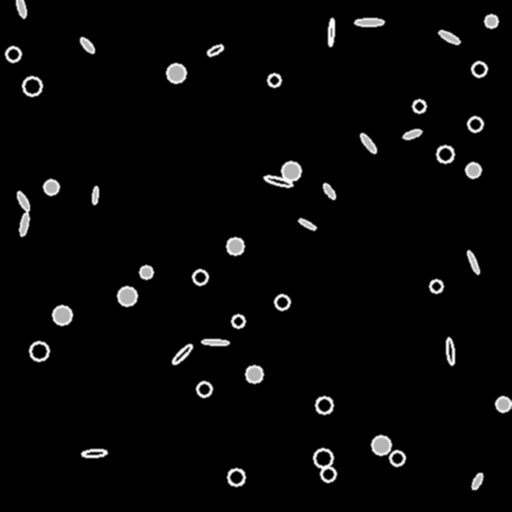pseudomonas: (170, 342, 194, 366), (359, 132, 377, 154), (264, 174, 292, 188), (438, 29, 460, 45), (466, 250, 480, 274), (78, 36, 96, 54), (15, 191, 31, 211), (321, 182, 337, 200), (297, 217, 317, 231), (18, 213, 30, 235), (445, 338, 455, 364), (206, 43, 224, 57), (402, 128, 422, 140), (354, 18, 384, 26), (82, 449, 106, 457), (471, 473, 483, 489), (16, 0, 26, 17), (328, 18, 334, 46), (202, 339, 228, 345), (92, 187, 98, 203)
synechocystis: (167, 64, 185, 82), (282, 162, 300, 180), (314, 449, 332, 467), (23, 77, 41, 95), (118, 287, 136, 305), (53, 306, 71, 324), (372, 436, 390, 454), (30, 342, 48, 360), (228, 469, 244, 485), (437, 146, 453, 162), (316, 397, 332, 413), (246, 366, 262, 382), (227, 238, 243, 254), (472, 62, 486, 76), (193, 270, 207, 284), (44, 180, 58, 194), (496, 397, 510, 411), (468, 117, 482, 131), (321, 467, 335, 481), (197, 382, 211, 396), (275, 295, 289, 309), (6, 47, 20, 61), (466, 163, 480, 177), (390, 451, 404, 465), (430, 280, 442, 292), (232, 315, 244, 327), (140, 266, 152, 278), (413, 100, 425, 112), (485, 15, 497, 27), (268, 74, 280, 86)
